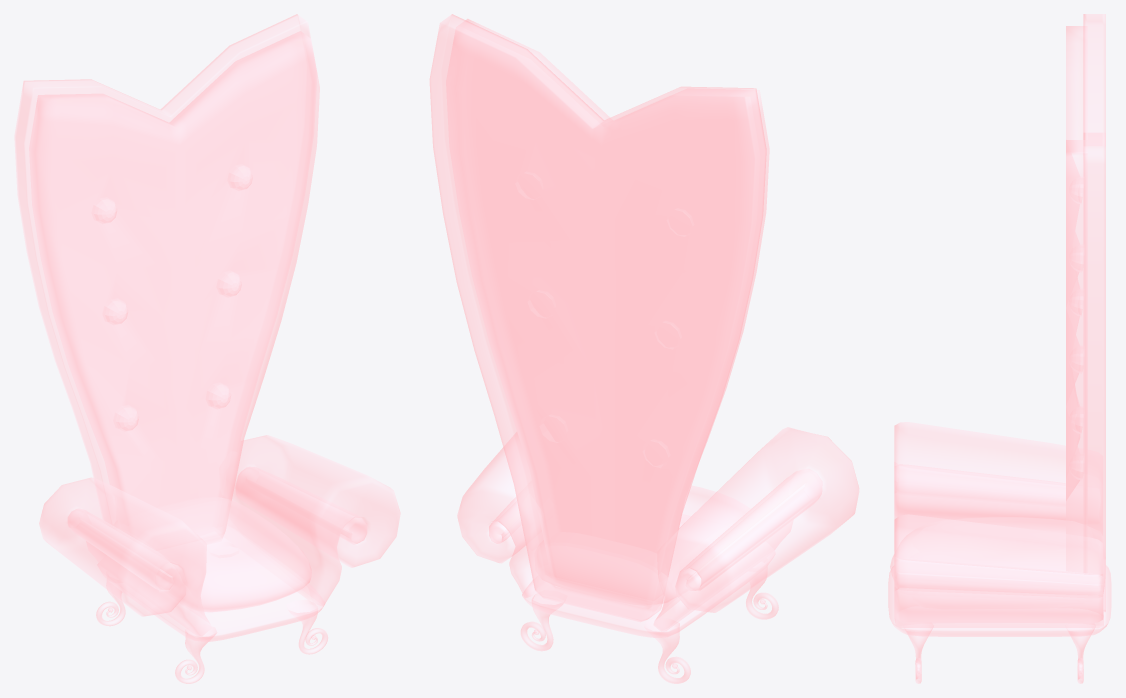
File: pink_heart_chair.fbx
3 renders of one model, left to right at view 1: azimuth 30°, elevation 25°; view 2: azimuth 150°, elevation 25°; view 3: azimuth 270°, elevation 25°, orthographic. The views are drawn at different scales.
Parts seen in each view (by area): view 1: chair; view 2: chair; view 3: chair.
Part boxes in pixels (x1,y1,x2,y2): chair: [14, 14, 400, 683]; chair: [429, 14, 859, 683]; chair: [888, 14, 1111, 683].
Bounding box in the file's own units: 15.87 × 28.79 × 10.23.
